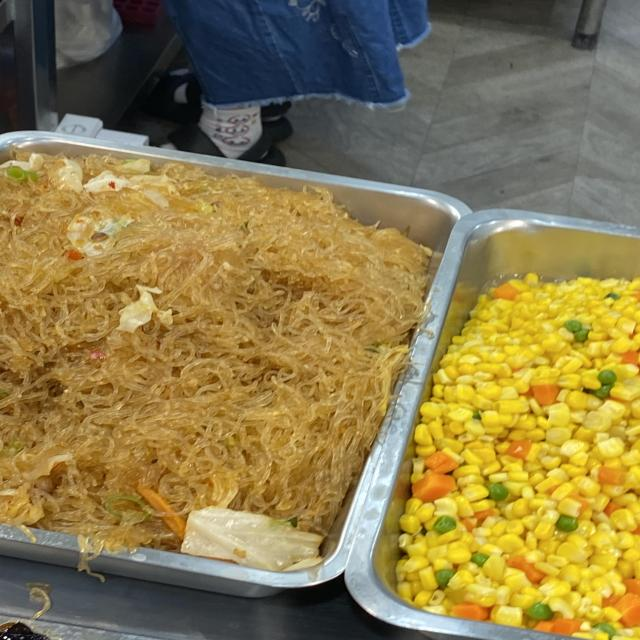Ants climbing the tree: (8, 200, 336, 510)
